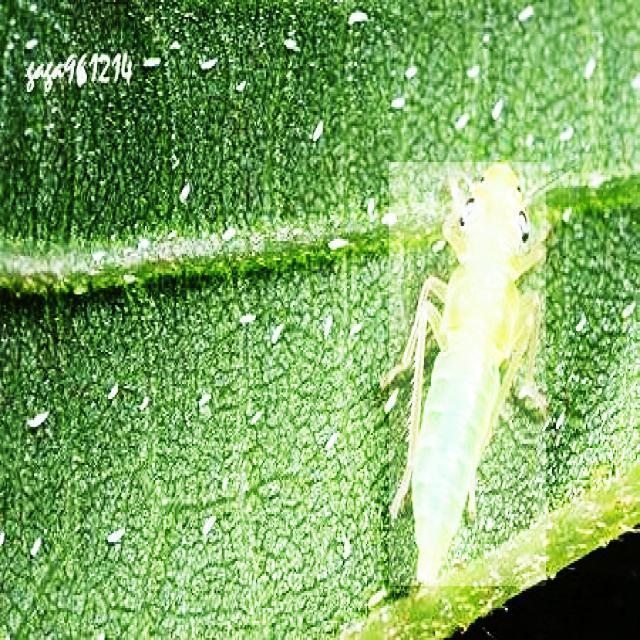green-leafhopper: (389, 162, 546, 586)
